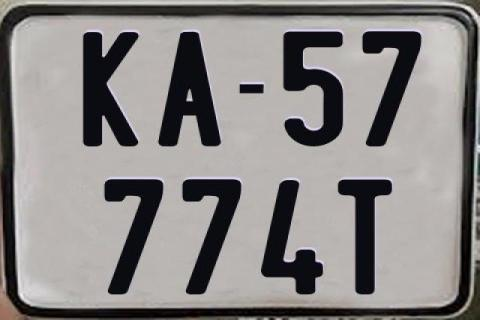0: (259, 180, 326, 295), (360, 29, 423, 149), (182, 177, 246, 295), (101, 179, 163, 297), (280, 31, 340, 150)
A: (158, 32, 227, 150)
K: (81, 30, 137, 144)
T: (338, 179, 392, 296)
